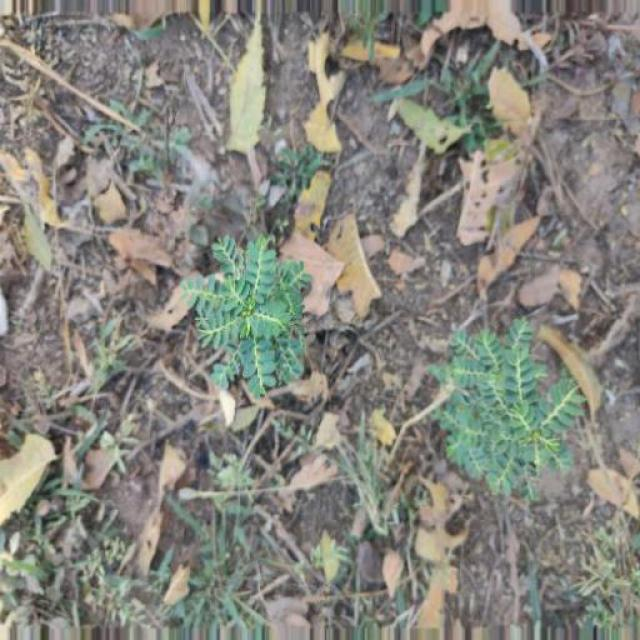weed: (438, 322, 592, 488), (182, 242, 316, 392)
